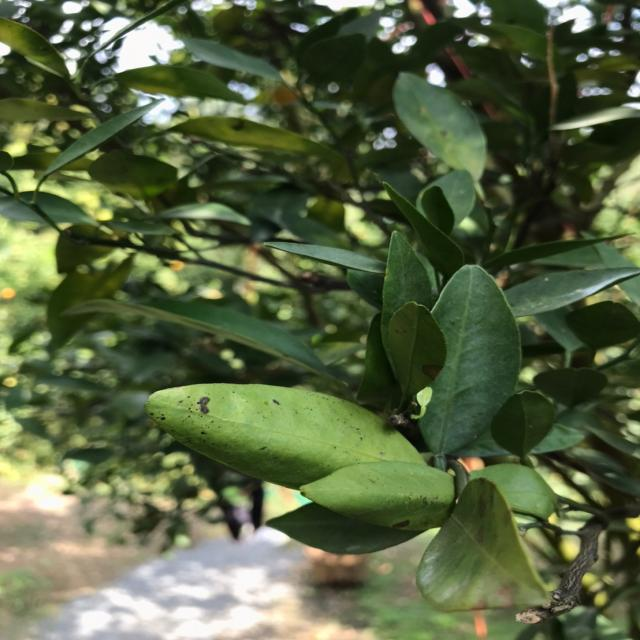melanose: (146, 377, 398, 492)
